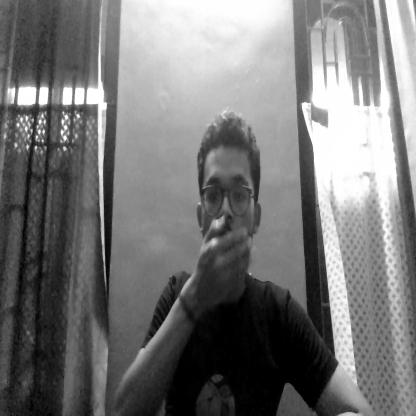Normal: (198, 107, 260, 280)
